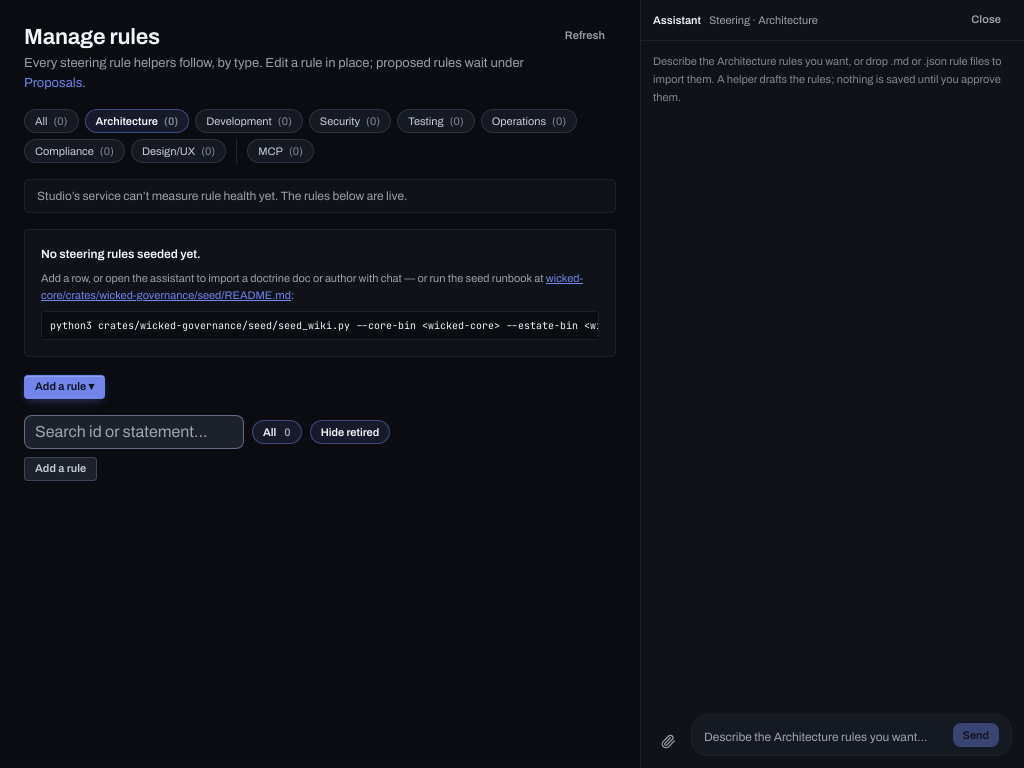
SteeringPage — seededness › clicking "Add row" on an unseeded empty store opens a draft row in the grid (studio#212)
Expected: the element with test id "steering-unseeded" is shown, [24,229,616,357]
Step 1. Click the button with test id "steering-add-menu" → coordinates (65, 387), box [24,375,105,399]
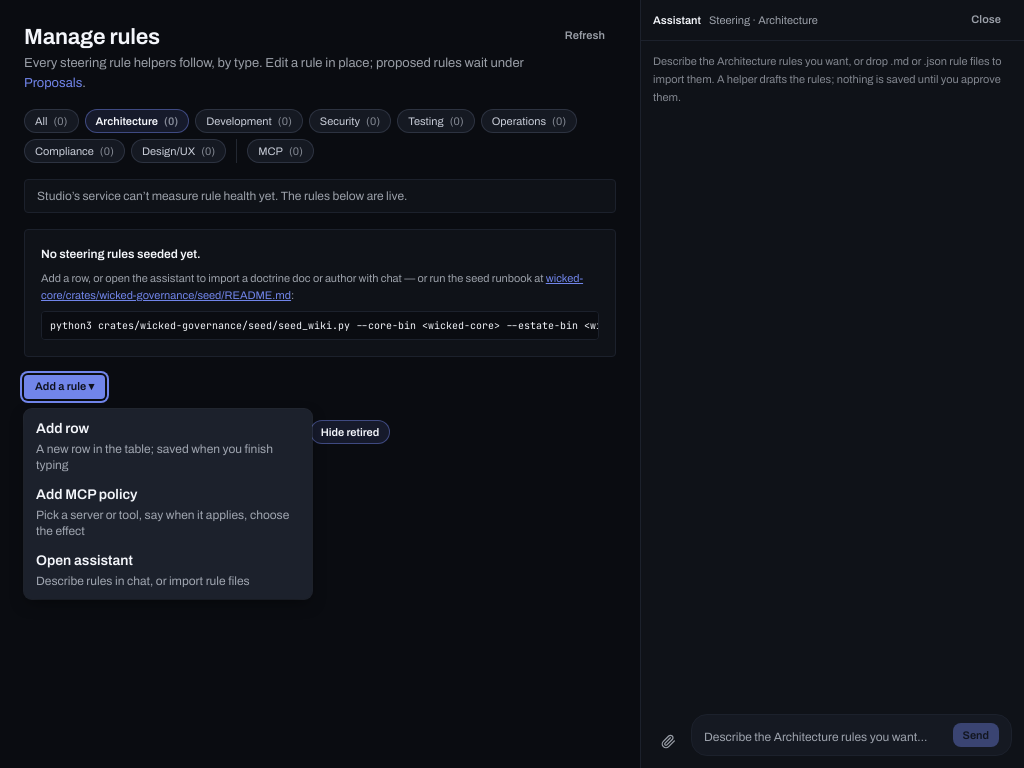
Step 2. Click the menu item with test id "steering-add-open" → coordinates (168, 446), box [24,413,312,479]
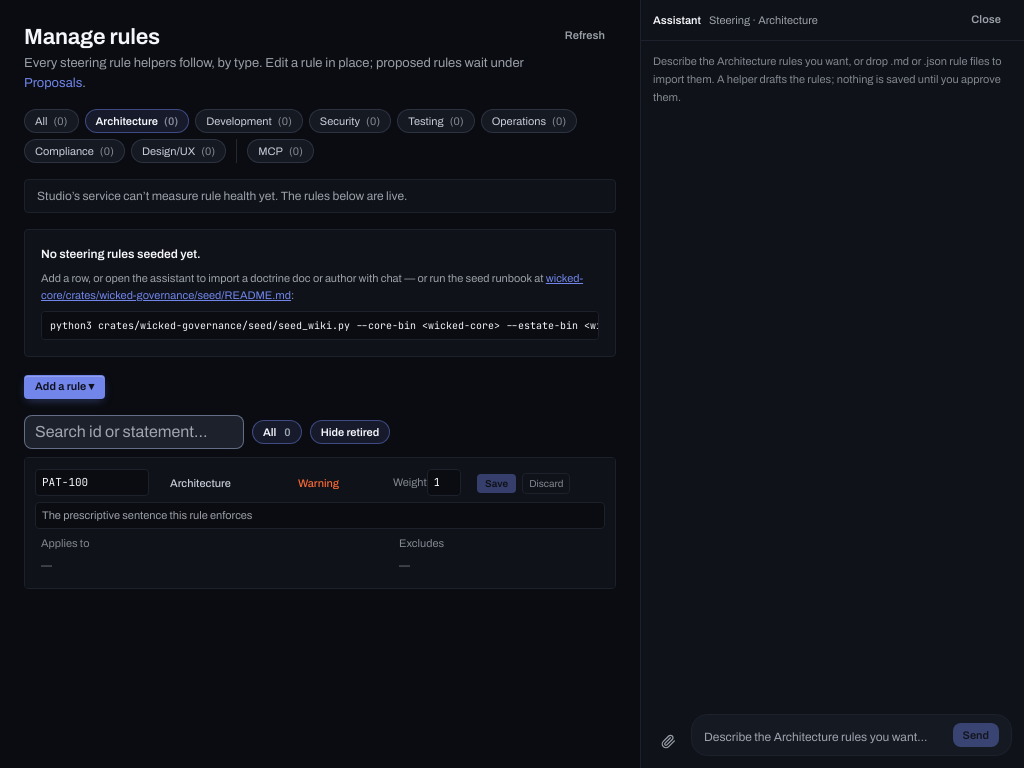
Now the row with test id "steering-grid-draft" is shown, box [25,458,615,588]
